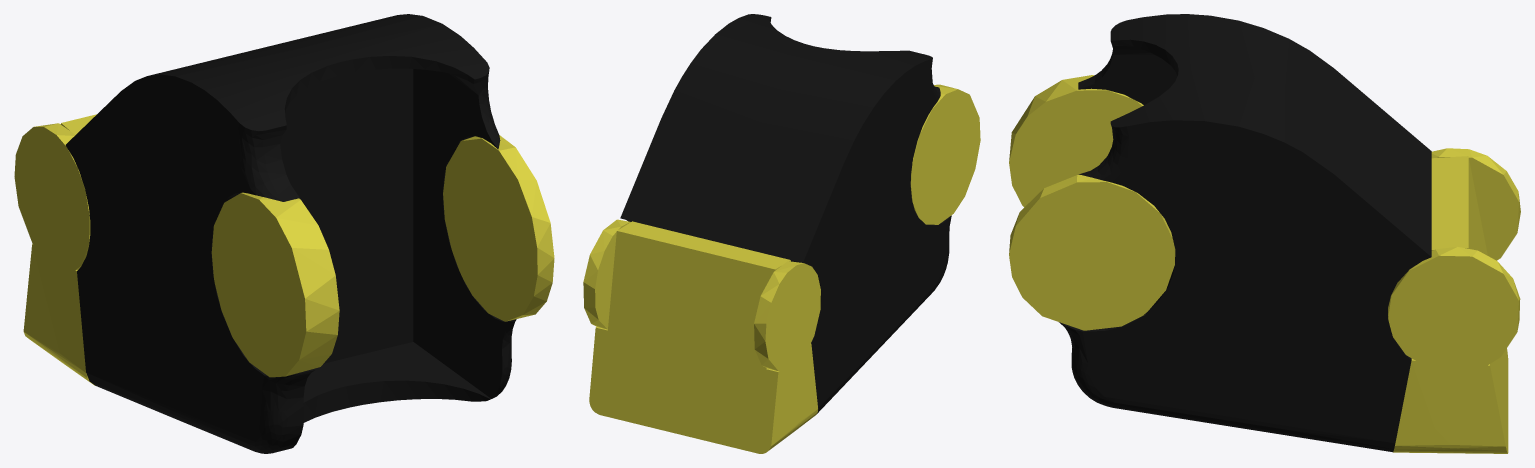
The model's file is thigh_dexter_collision.obj.
3 renders of one model, left to right at view 1: azimuth 30°, elevation 25°; view 2: azimuth 150°, elevation 25°; view 3: azimuth 270°, elevation 25°, orthographic. The views are drawn at different scales.
Visible parts, largest first — view 1: Body6, Body9, Body10, Body7, Body11; view 2: Body6, Body11, Body9, Body7, Body8; view 3: Body6, Body10, Body11, Body8, Body9, Body7.
Part boxes in pixels (x1=…): Body6: x1=65, y1=14, x2=516, y2=453; Body9: x1=211, y1=192, x2=339, y2=377; Body10: x1=443, y1=135, x2=554, y2=321; Body7: x1=14, y1=123, x2=90, y2=274; Body11: x1=23, y1=114, x2=96, y2=385; Body6: x1=620, y1=14, x2=951, y2=413; Body11: x1=589, y1=221, x2=817, y2=453; Body9: x1=910, y1=84, x2=980, y2=224; Body7: x1=754, y1=261, x2=820, y2=371; Body8: x1=583, y1=219, x2=630, y2=329; Body6: x1=1059, y1=14, x2=1431, y2=452; Body10: x1=1009, y1=175, x2=1175, y2=330; Body11: x1=1393, y1=156, x2=1508, y2=453; Body8: x1=1388, y1=247, x2=1520, y2=374; Body9: x1=1009, y1=75, x2=1143, y2=207; Body7: x1=1431, y1=148, x2=1520, y2=260.
Size of the model in its own units: 15 by 22.4 by 30.61.
